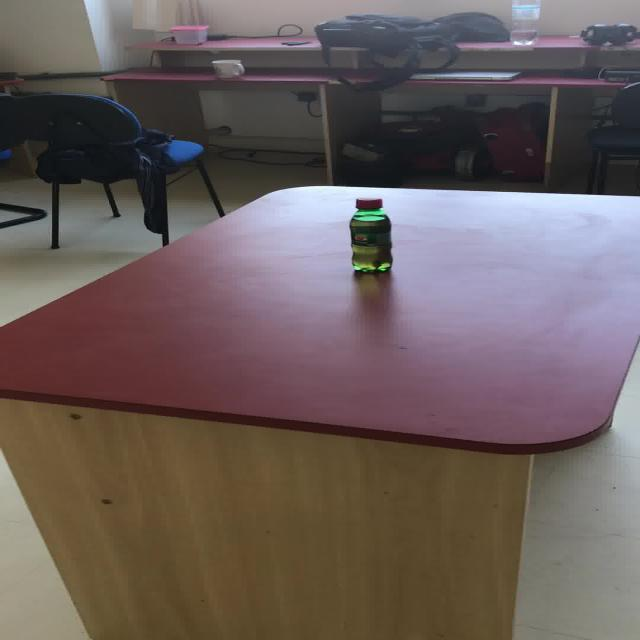guarana: (348, 197, 392, 272)
